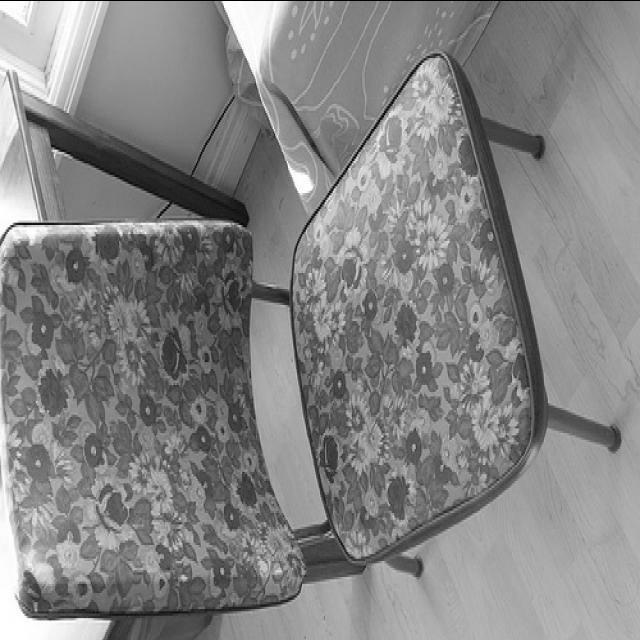chair: (1, 50, 622, 622)
